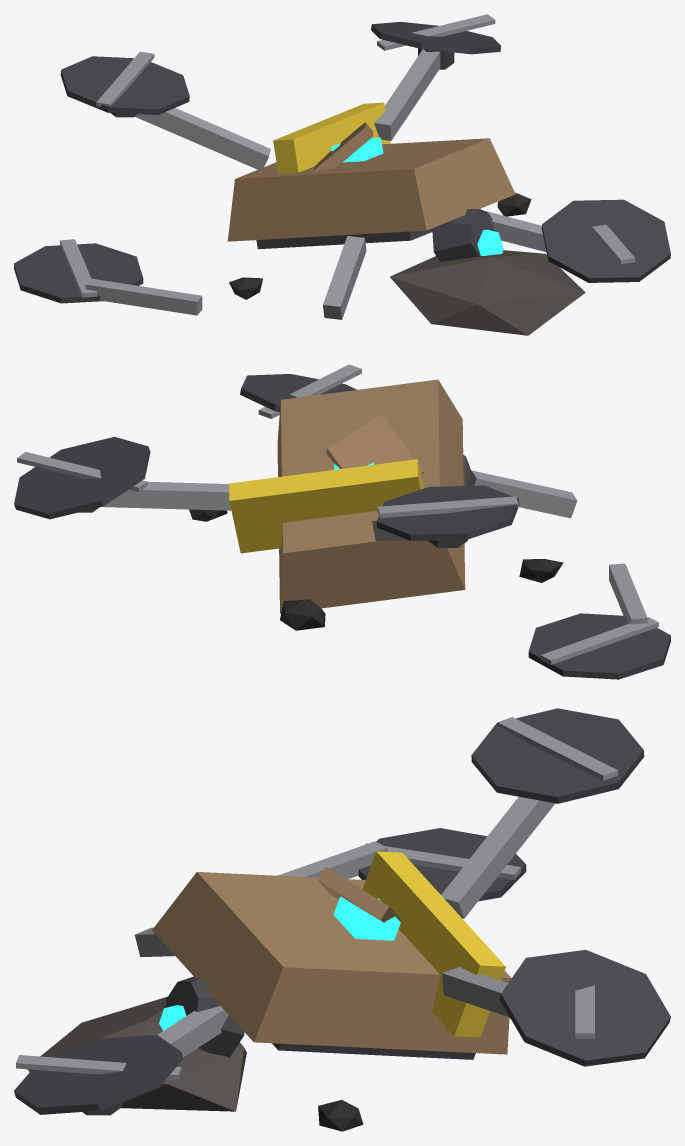
The model's file is crashed_drone.glb.
3 renders of one model, top to bottom at view 1: azimuth 30°, elevation 25°; view 2: azimuth 150°, elevation 25°; view 3: azimuth 270°, elevation 25°, orthographic. The views are drawn at different scales.
Parts seen in each view (by area): view 1: NODE_CrashedDrone_Mesh; view 2: NODE_CrashedDrone_Mesh; view 3: NODE_CrashedDrone_Mesh.
Boxes of the visible parts, box(x1,y1,x2,y2) form: NODE_CrashedDrone_Mesh: box(14, 14, 670, 335); NODE_CrashedDrone_Mesh: box(14, 364, 670, 679); NODE_CrashedDrone_Mesh: box(14, 708, 670, 1131).
Bounding box in the file's own units: 2.01 × 0.6203 × 1.67.
